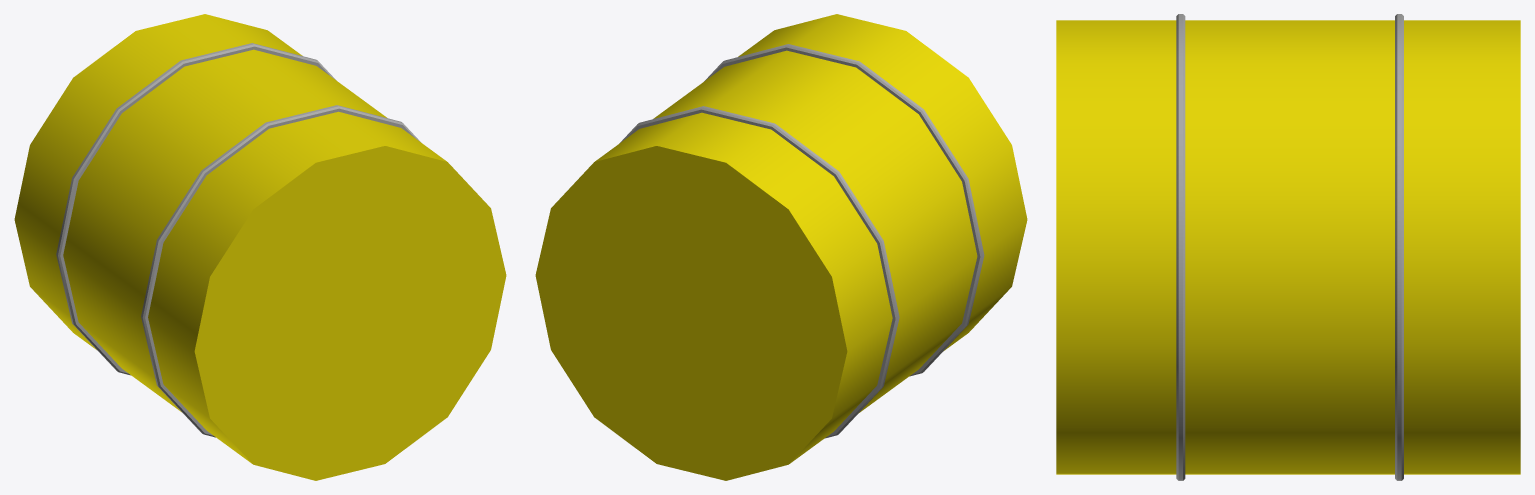
Rendered from Hay_Bale_cylinder.fbx.
3 views of the same model, side by side, from view 1: azimuth 30°, elevation 25°; view 2: azimuth 150°, elevation 25°; view 3: azimuth 270°, elevation 25° (orthographic). The views are drawn at different scales.
Visible parts, largest first — view 1: polySurface3; view 2: polySurface3; view 3: polySurface3.
Part boxes in pixels (x1,y1,x2,y2): polySurface3: (14,14,506,480); polySurface3: (535,14,1027,480); polySurface3: (1056,14,1520,480).
Size of the model in its own units: 9.05 by 8.82 by 8.8.
